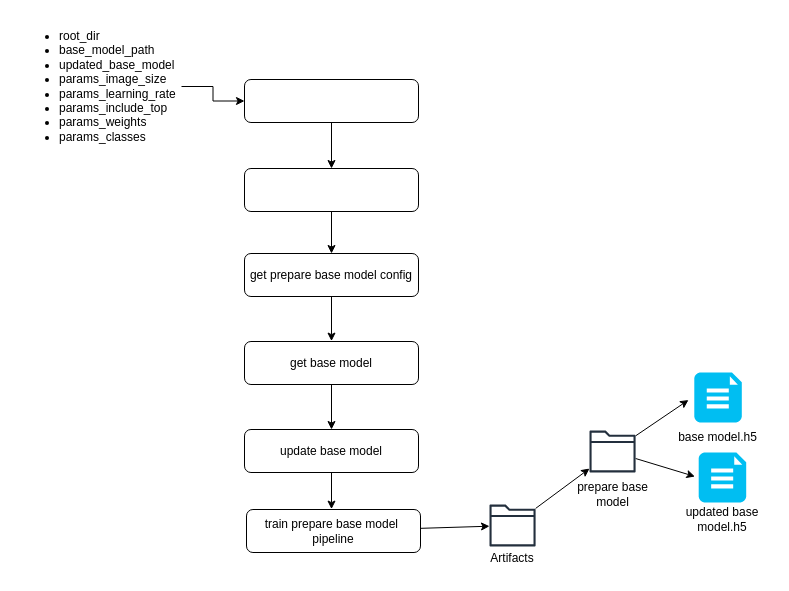
The diagram is 789 pixels wide and 591 high, and some of its shapes have lost their labels. Here are the shapes that lost their labels. From the top down, the centre of each, then its label:
At [331,100]: "prepare_base_model_config".
At [331,190]: "Configuration".
